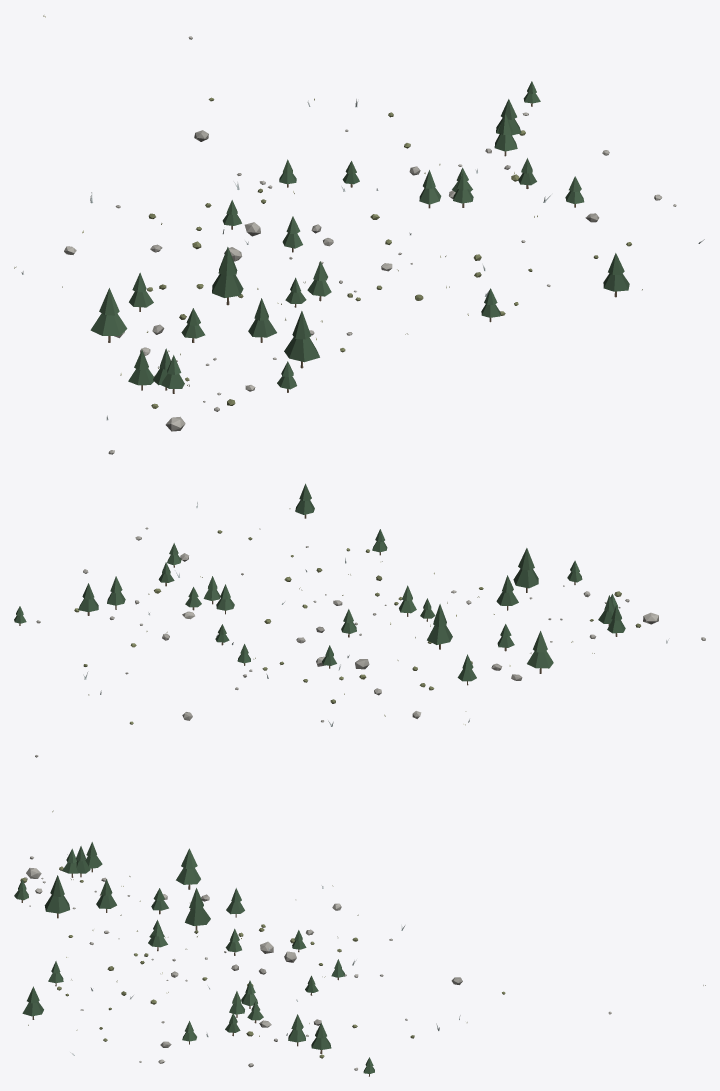
Rendered from coast_land_scatter_c09_16_lod1.glb.
The picture shows the model from 3 angles, top to bottom: view 1: azimuth 30°, elevation 25°; view 2: azimuth 150°, elevation 25°; view 3: azimuth 270°, elevation 25°; orthographic projection. The views are drawn at different scales.
Parts seen in each view (by area): view 1: coast_land_scatter_c09_16_lod1; view 2: coast_land_scatter_c09_16_lod1; view 3: coast_land_scatter_c09_16_lod1.
Boxes of the visible parts, x1,y1,x2,y2 form: coast_land_scatter_c09_16_lod1: (14,15,704,454); coast_land_scatter_c09_16_lod1: (14,483,705,812); coast_land_scatter_c09_16_lod1: (14,842,705,1076).
Bounding box in the file's own units: 193 × 22.67 × 235.
